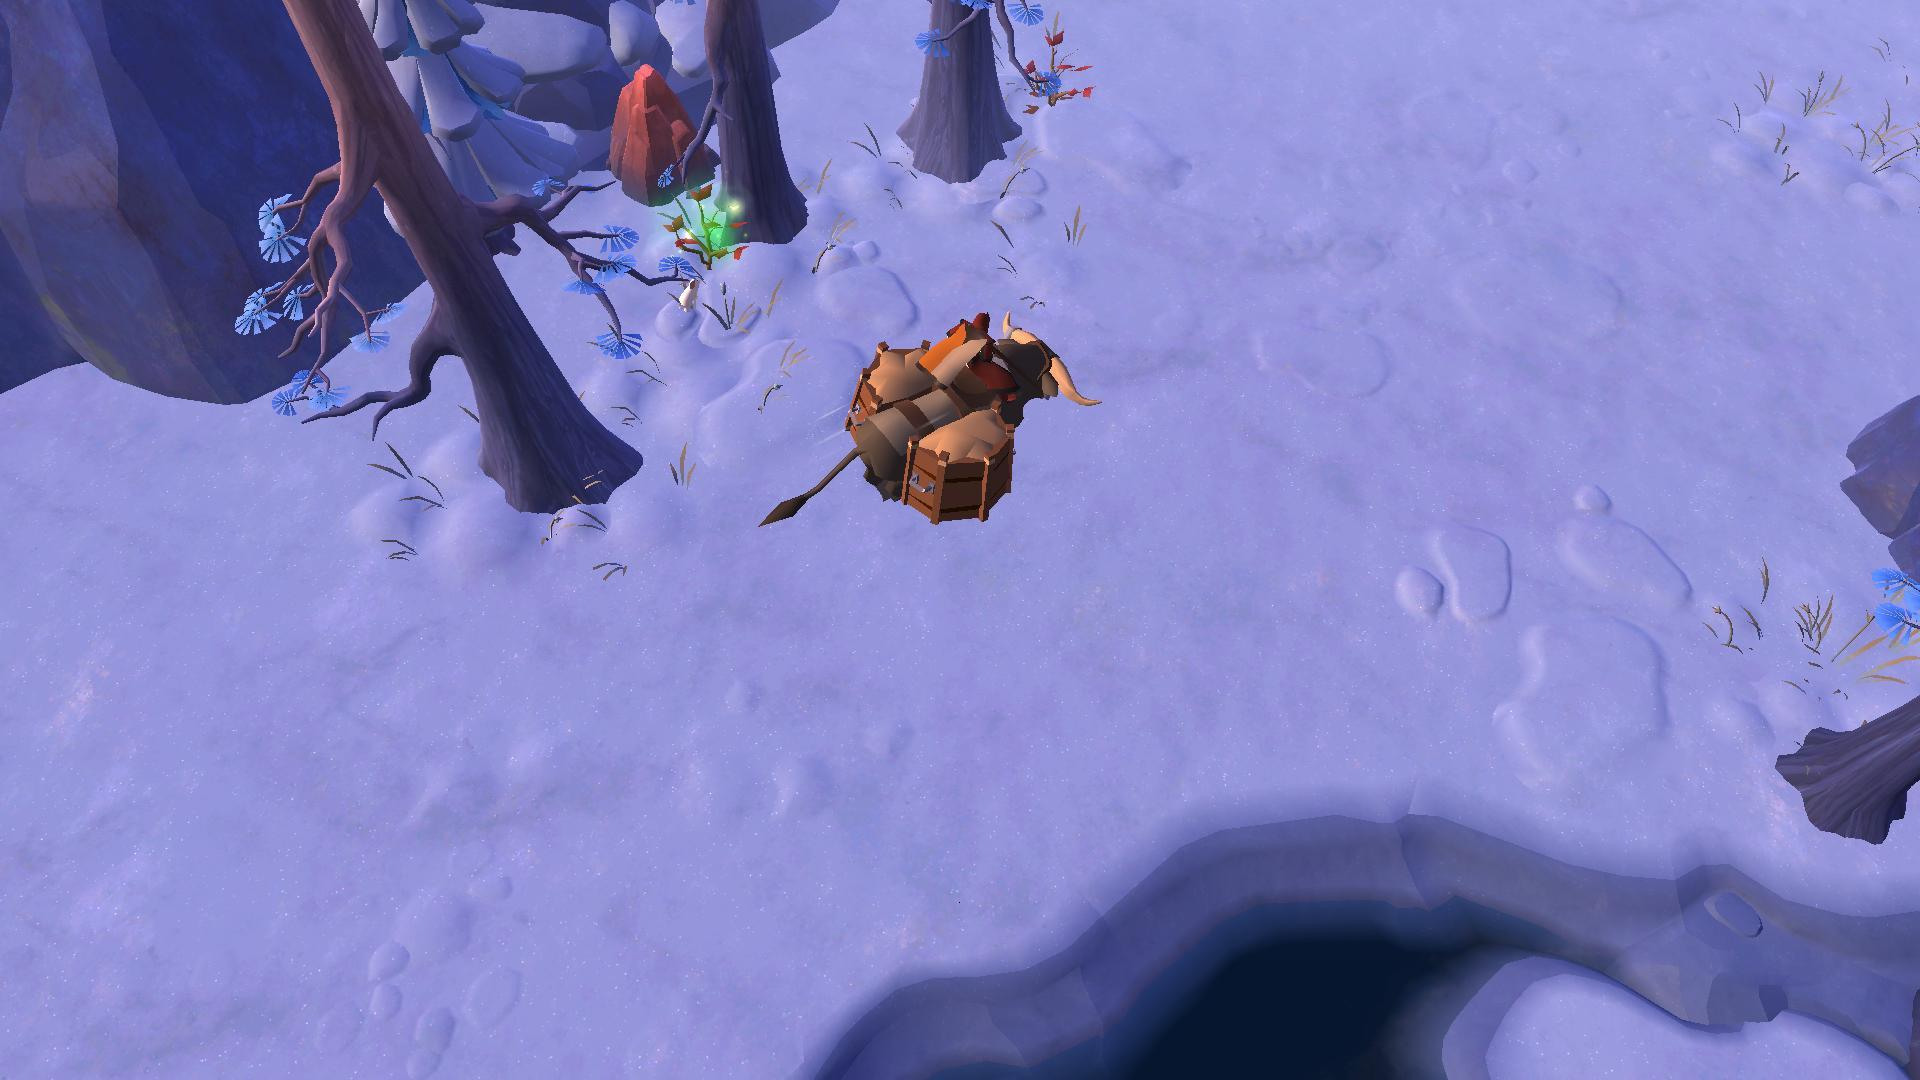rock_t5: (603, 58, 723, 203)
